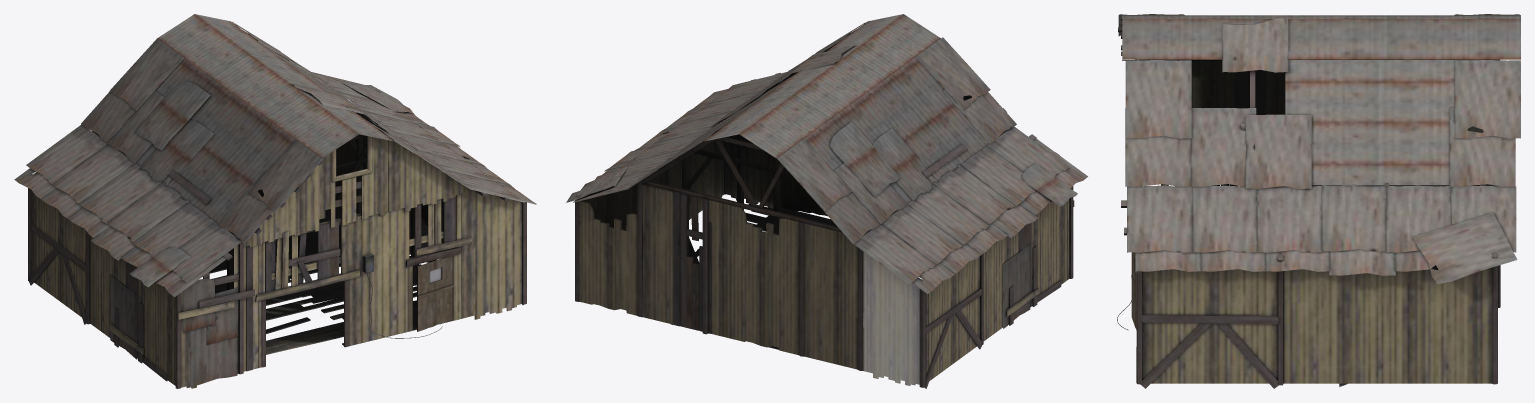
Rendered from ambar2_0.fbx.
The picture shows the model from 3 angles, left to right: view 1: azimuth 30°, elevation 25°; view 2: azimuth 150°, elevation 25°; view 3: azimuth 270°, elevation 25°; orthographic projection. The views are drawn at different scales.
Visible parts, largest first — view 1: Object002; view 2: Object002; view 3: Object002.
Part boxes in pixels (box(x1,y1,x2,y2)): Object002: box(14, 14, 536, 388); Object002: box(566, 14, 1087, 388); Object002: box(1117, 14, 1520, 388).
Bounding box in the file's own units: 244 × 135 × 184.
Materials: 1 (1 with a texture image).
